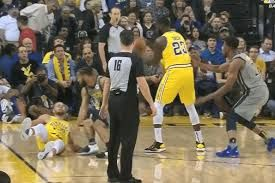10+: (1, 1, 275, 182)
down: (13, 91, 84, 166)
